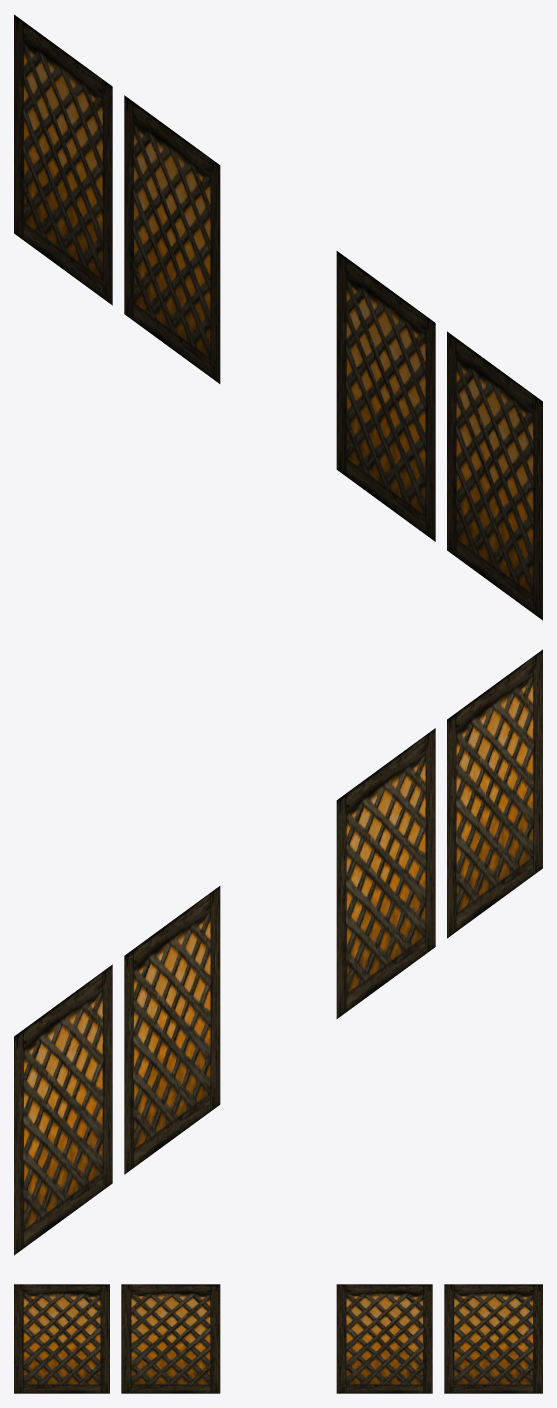
Rendered from LAKETOWN_EXTERIOR_PS_LT_ENT_SIDE_WINDOWS36.fbx.
3 views of the same model, one above another, from view 1: azimuth 30°, elevation 25°; view 2: azimuth 150°, elevation 25°; view 3: azimuth 270°, elevation 25° (orthographic). The views are drawn at different scales.
Visible parts, largest first — view 1: LAKETOWN_EXTERIOR_PS_LT_ENT_SIDE_WINDOWS36; view 2: LAKETOWN_EXTERIOR_PS_LT_ENT_SIDE_WINDOWS36; view 3: LAKETOWN_EXTERIOR_PS_LT_ENT_SIDE_WINDOWS36.
Boxes of the visible parts, <box> form: LAKETOWN_EXTERIOR_PS_LT_ENT_SIDE_WINDOWS36: <box>14,14,542,620</box>; LAKETOWN_EXTERIOR_PS_LT_ENT_SIDE_WINDOWS36: <box>14,649,542,1255</box>; LAKETOWN_EXTERIOR_PS_LT_ENT_SIDE_WINDOWS36: <box>14,1284,542,1393</box>.
Bounding box in the file's own units: 0.0061 × 13100 × 57333.
Materials: 1 (1 with a texture image).
